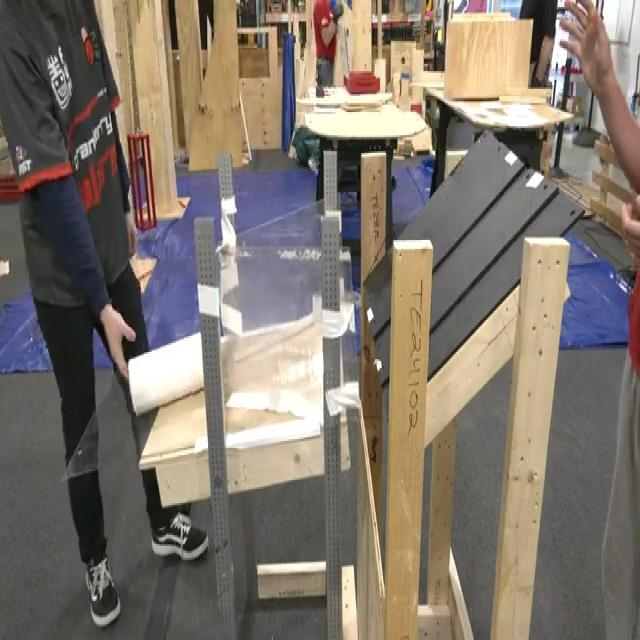Coral: (128, 333, 203, 417)
